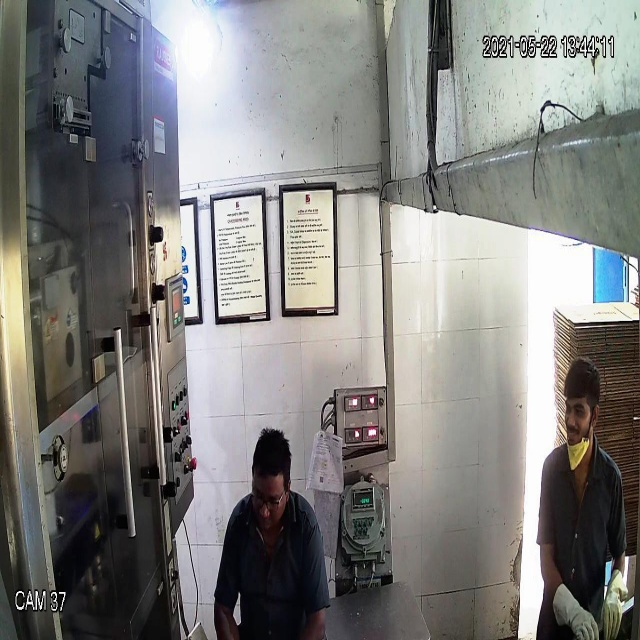Gafas: (247, 476, 290, 515)
Sin_gafas: (559, 395, 595, 427)
